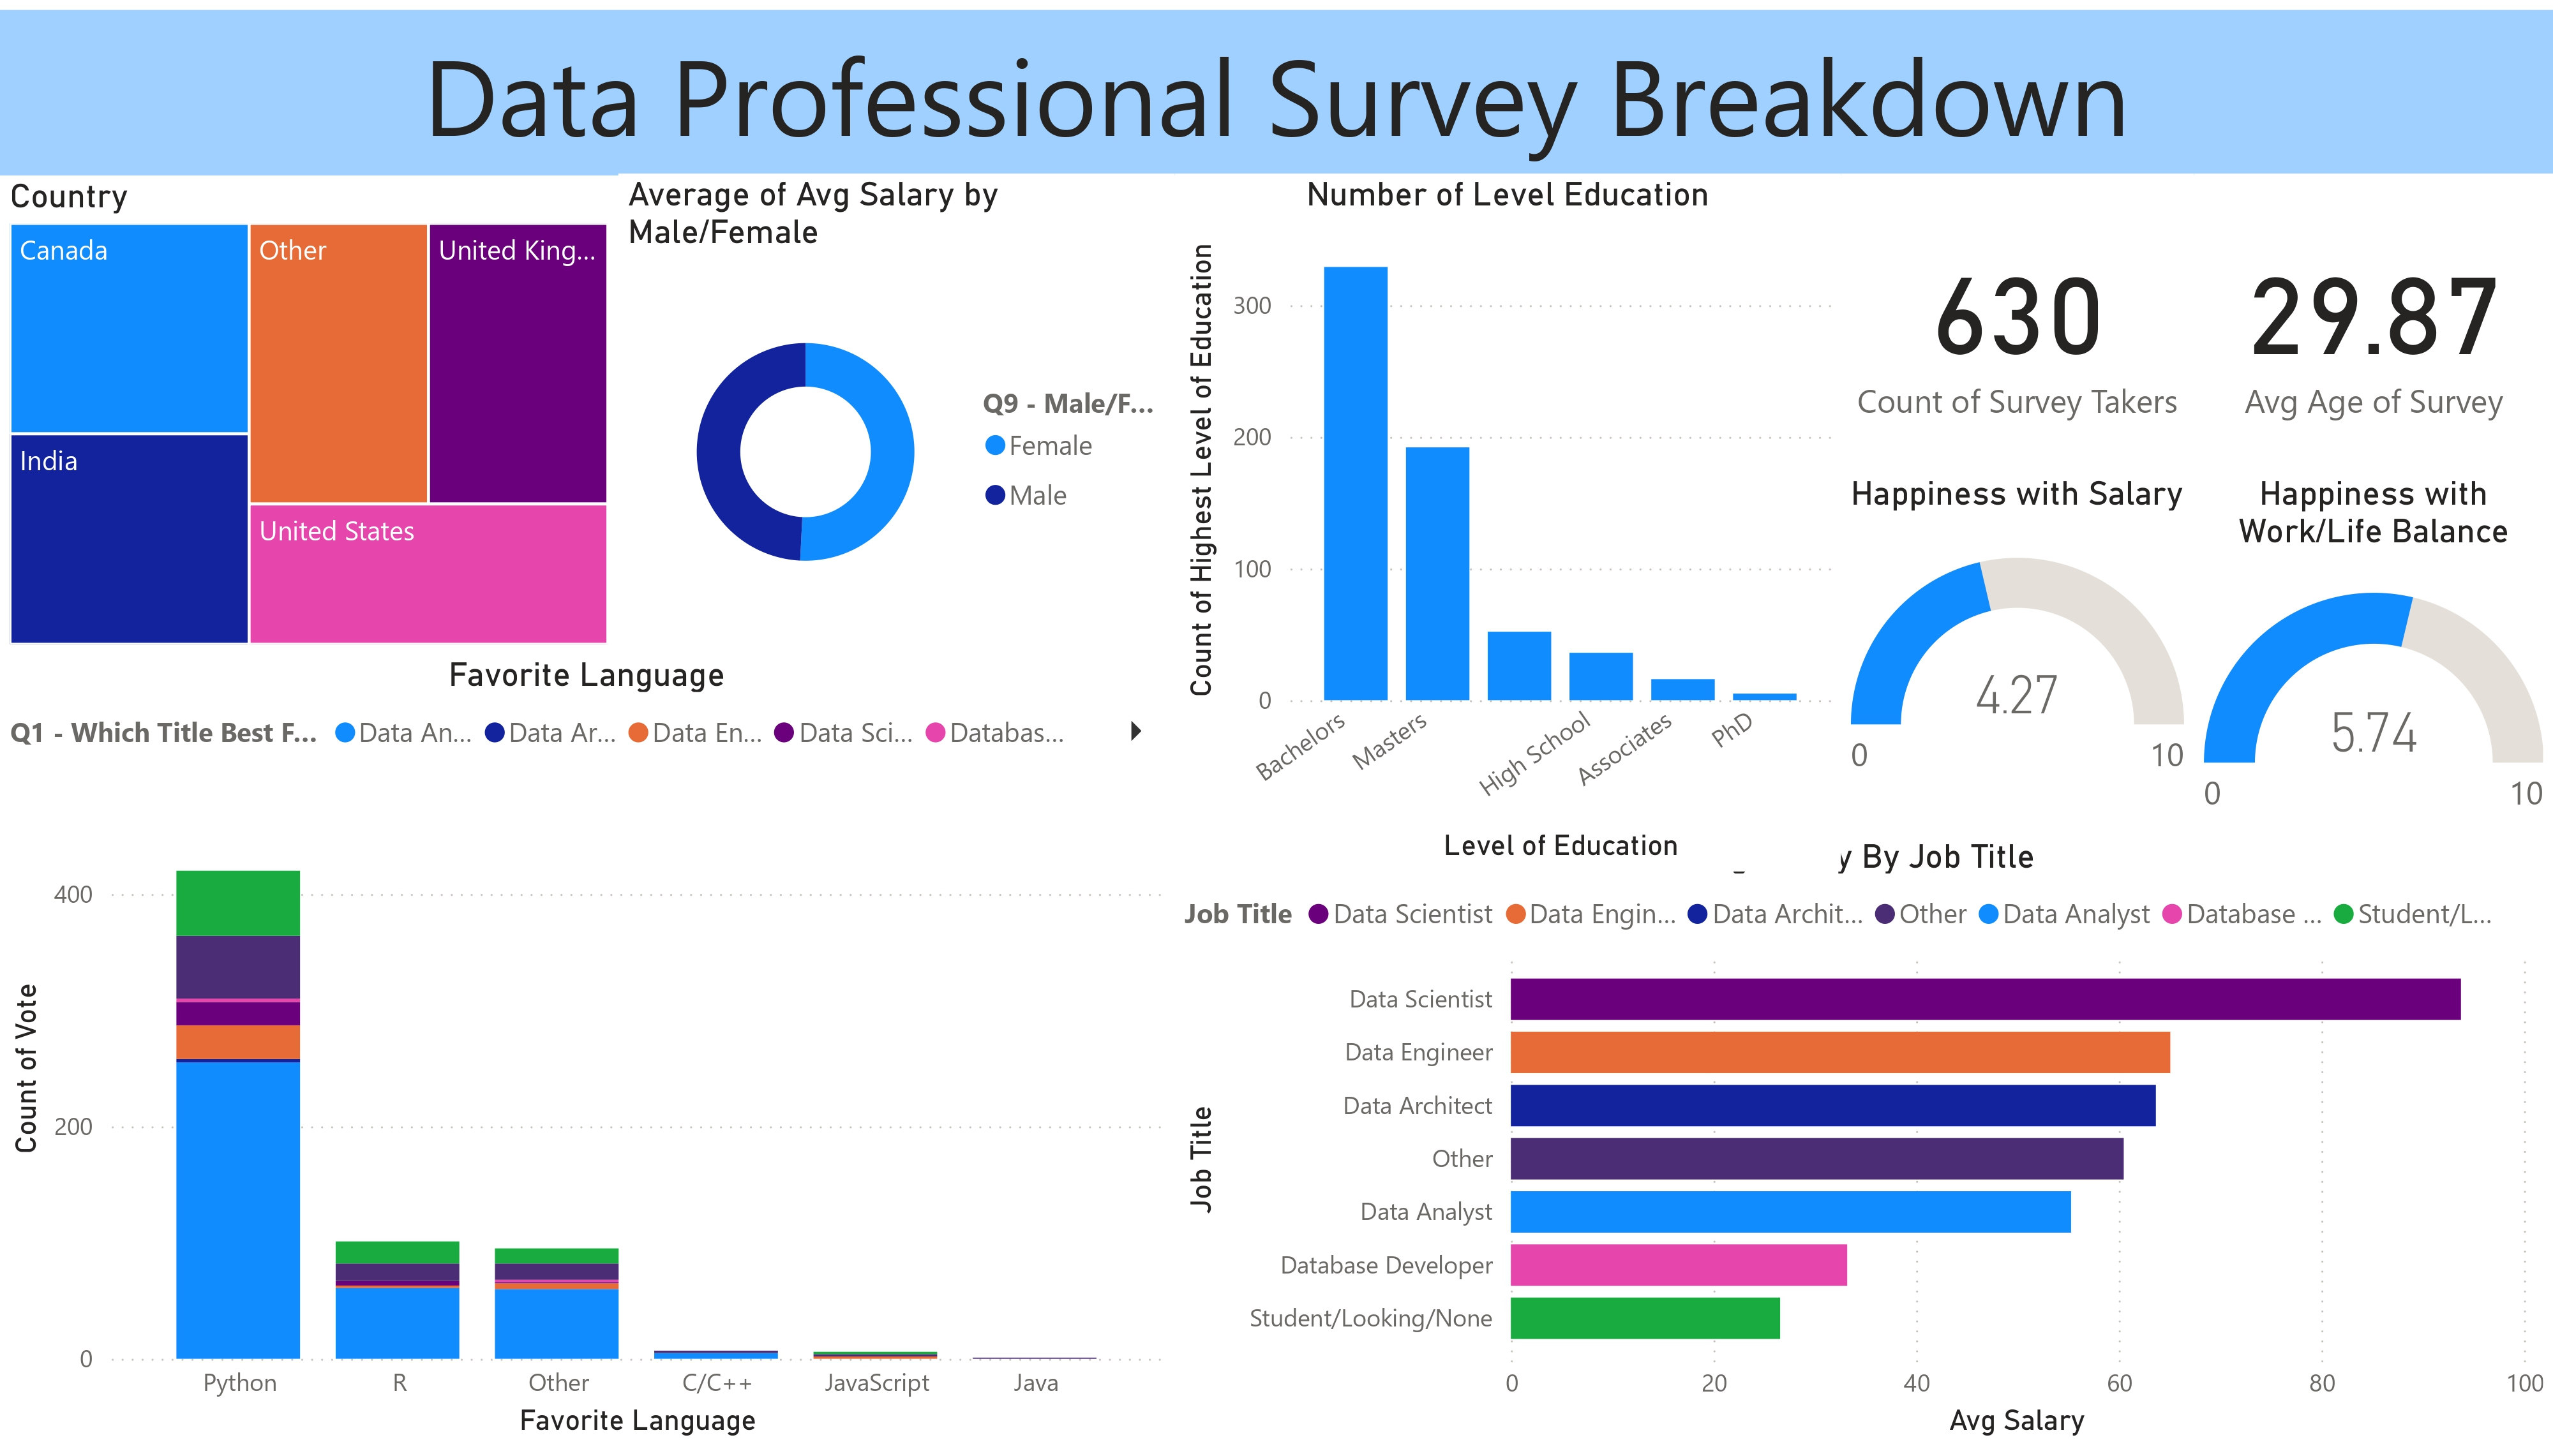

The dashboard page shown, as its layout file describes it:
{"tool":"powerbi","page":{"name":"Page 1","canvas":[1280,720],"ordinal":0},"visuals":[{"type":"textbox","box":[0,0,1280,82.7],"z":0},{"type":"card","fields":{"Values":["CountNonNull(Data Professional Survey.Unique ID)"]},"box":[922.7,81.9,177,150.5],"z":1000},{"type":"card","fields":{"Values":["Avg(Data Professional Survey.Q10 - Current Age)"]},"box":[1099.7,81.9,180.3,150.5],"z":2000},{"type":"barChart","title":"Avg Salary By Job Title","fields":{"Category":["Data Professional Survey.Q1 - Which Title Best Fits your Current Role?.1"],"Y":["Avg(Data Professional Survey.Avg Salary)"],"Series":["Data Professional Survey.Q1 - Which Title Best Fits your Current Role?.1"]},"box":[588.6,413.8,691.4,306.4],"z":3000},{"type":"columnChart","title":"Favorite Language","fields":{"Category":["Data Professional Survey.Q5 - Favorite Programming Language.1"],"Y":["CountNonNull(Data Professional Survey.Unique ID)"],"Series":["Data Professional Survey.Q1 - Which Title Best Fits your Current Role?.1"]},"box":[0,323,588.6,397.2],"z":4000},{"type":"treemap","title":"Country","fields":{"Group":["Data Professional Survey.Q11 - Which Country do you live in?.1"],"Values":["Count(Data Professional Survey.Q11 - Which Country do you live in?.1)"]},"box":[0,83,309.8,240.1],"z":5000},{"type":"gauge","title":"Happiness with Work/Life Balance","fields":{"Y":["Avg(Data Professional Survey.Q6 - How Happy are you in your Current Position with the following? (Work/Life Balance))"],"MinValue":["Min(Data Professional Survey.Q6 - How Happy are you in your Current Position with the following? (Work/Life Balance))"],"MaxValue":["Max(Data Professional Survey.Q6 - How Happy are you in your Current Position with the following? (Work/Life Balance))"]},"box":[1099.7,232.3,180.3,199.1],"z":5001},{"type":"gauge","title":"Happiness with Salary","fields":{"Y":["Avg(Data Professional Survey.Q6 - How Happy are you in your Current Position with the following? (Salary))"],"MinValue":["Min(Data Professional Survey.Q6 - How Happy are you in your Current Position with the following? (Salary))"],"MaxValue":["Max(Data Professional Survey.Q6 - How Happy are you in your Current Position with the following? (Salary))"]},"box":[922.7,232.3,177,181.4],"z":5002},{"type":"donutChart","title":"Average of Avg Salary by Male/Female","fields":{"Category":["Data Professional Survey.Q9 - Male/Female?"],"Y":["Avg(Data Professional Survey.Avg Salary)"]},"box":[309.8,81.9,278.8,241.2],"z":5003},{"type":"columnChart","title":"Number of Level Education","fields":{"Category":["Data Professional Survey.Q12 - Highest Level of Education"],"Y":["CountNonNull(Data Professional Survey.Q12 - Highest Level of Education)"]},"box":[588.6,81.9,334.1,349.6],"z":5004}]}

Visuals, with their boxes in screenshot pixels (x1, y1, x2, y2), scaled from the page's 1280x720 canvas onto the 2553x1456 screenshot:
textbox: 0, 0, 2552, 167
card - CountNonNull(Data Professional Survey.Unique ID): 1840, 166, 2194, 470
card - Avg(Data Professional Survey.Q10 - Current Age): 2194, 166, 2552, 470
"Avg Salary By Job Title" barChart: 1174, 837, 2552, 1455
"Favorite Language" columnChart: 0, 653, 1174, 1455
"Country" treemap: 0, 168, 618, 653
"Happiness with Work/Life Balance" gauge: 2194, 470, 2552, 872
"Happiness with Salary" gauge: 1840, 470, 2194, 836
"Average of Avg Salary by Male/Female" donutChart: 618, 166, 1174, 653
"Number of Level Education" columnChart: 1174, 166, 1840, 873
